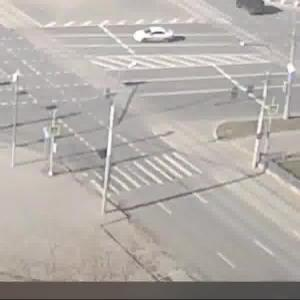car: (132, 25, 176, 46), (233, 2, 277, 21)
